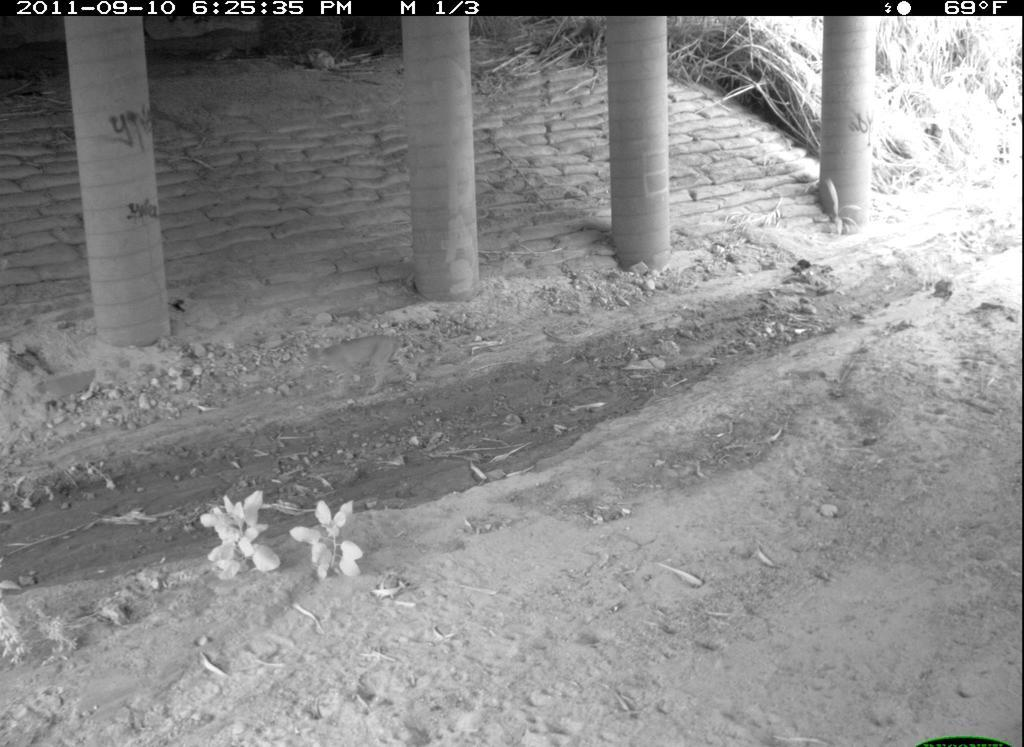bobcat: (599, 661, 840, 747)
